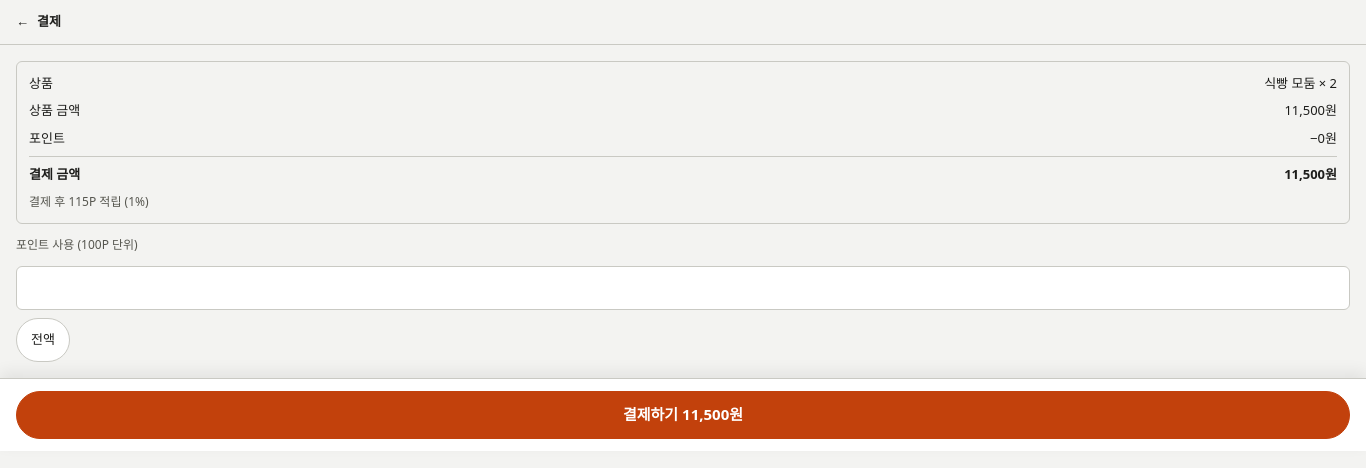
Test: CheckoutPage (C3) › PENDING_PAYMENT면 결제 폼(총액·보유 포인트)
Expected: the button "결제하기 11,500원" is shown, [16,390,1350,438]
Click the button "전액": click(43, 340) [16,318,70,362]
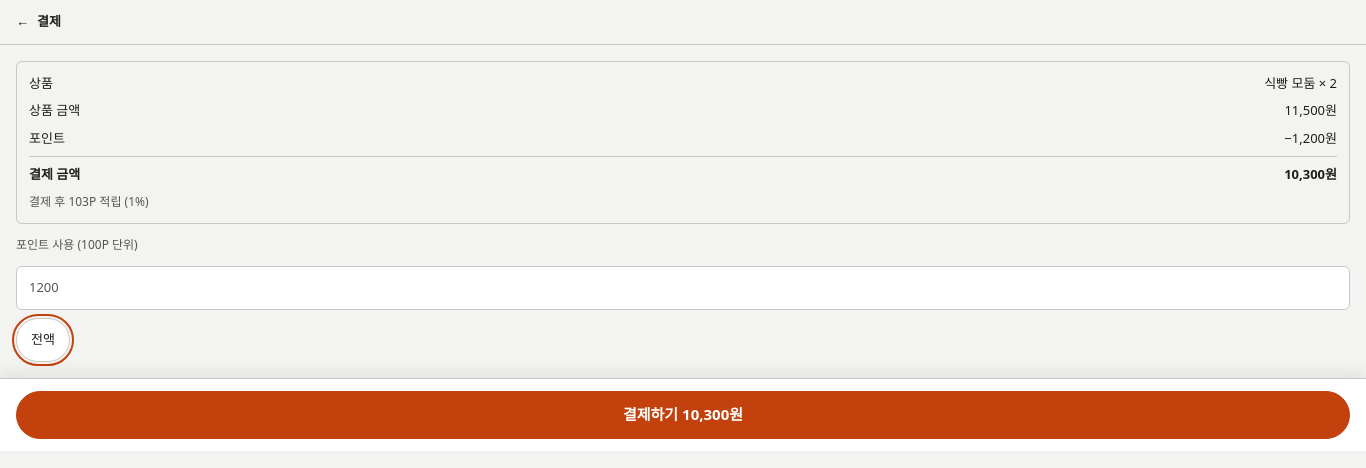
Now the button "결제하기 10,300원" is shown, box [16,390,1350,438]
